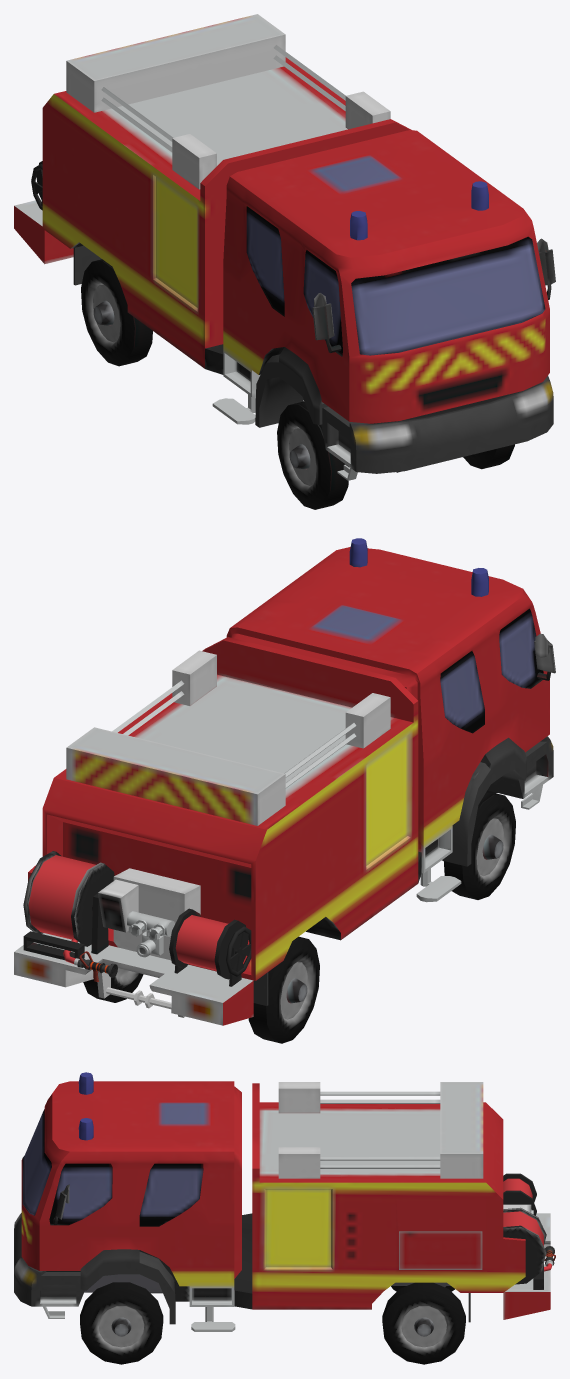
File: truck_ccf_night.glb
The picture shows the model from 3 angles, top to bottom: view 1: azimuth 30°, elevation 25°; view 2: azimuth 150°, elevation 25°; view 3: azimuth 270°, elevation 25°; orthographic projection. The views are drawn at different scales.
Visible parts, largest first — view 1: CCF, CCF_roues_av, CCF_roues_ar; view 2: CCF, CCF_tuyau_G, CCF_roues_ar, CCF_roues_av, CCF_tuyau_D; view 3: CCF, CCF_roues_ar, CCF_roues_av, CCF_tuyau_G, CCF_tuyau_D.
Boxes of the visible parts, x1=… form: CCF: x1=14, y1=14, x2=555, y2=480; CCF_roues_av: x1=277, y1=401, x2=514, y2=509; CCF_roues_ar: x1=81, y1=259, x2=152, y2=366; CCF: x1=14, y1=538, x2=555, y2=1025; CCF_tuyau_G: x1=23, y1=851, x2=114, y2=965; CCF_roues_ar: x1=83, y1=936, x2=319, y2=1043; CCF_roues_av: x1=443, y1=791, x2=515, y2=899; CCF_tuyau_D: x1=169, y1=908, x2=251, y2=979; CCF: x1=14, y1=1072, x2=550, y2=1331; CCF_roues_ar: x1=382, y1=1282, x2=465, y2=1364; CCF_roues_av: x1=80, y1=1282, x2=163, y2=1364; CCF_tuyau_G: x1=503, y1=1207, x2=553, y2=1284; CCF_tuyau_D: x1=503, y1=1173, x2=536, y2=1215.
Bounding box in the file's own units: 0.7873 × 0.9453 × 2.
2 materials, 2 textured.
